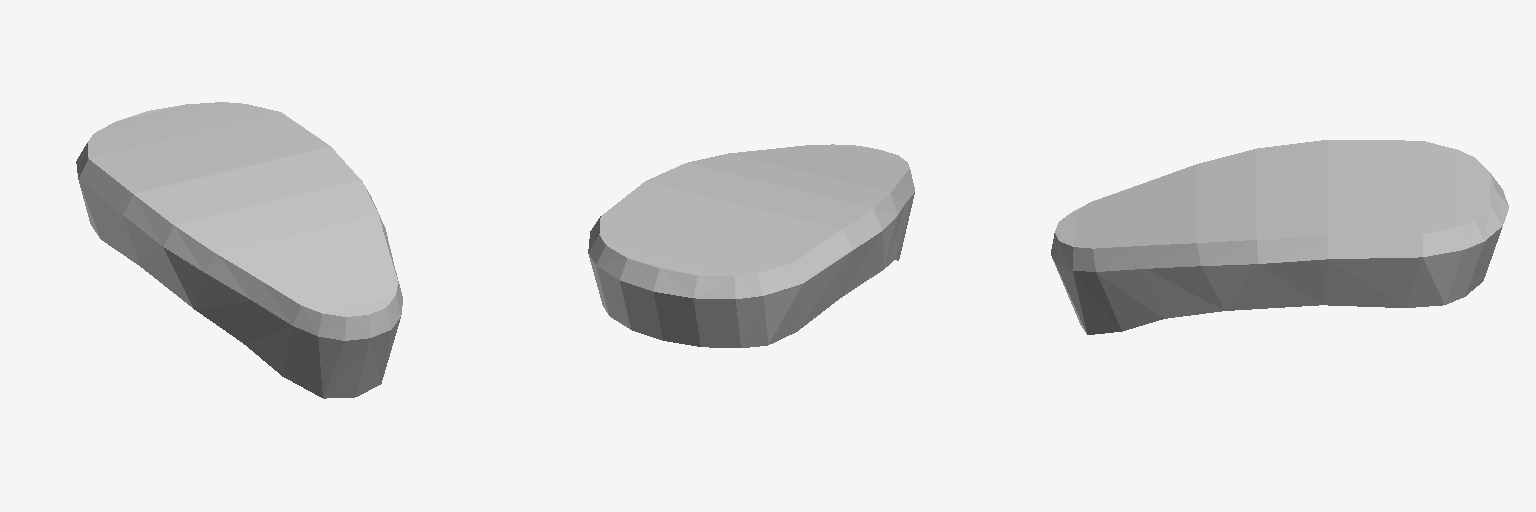
File: SeatLmao.obj
3 renders of one model, left to right at view 1: azimuth 30°, elevation 25°; view 2: azimuth 150°, elevation 25°; view 3: azimuth 270°, elevation 25°, orthographic.
Parts seen in each view (by area): view 1: Seat; view 2: Seat; view 3: Seat.
Part boxes in pixels (left/top/right/bottom): Seat: left=76, top=102, right=402, bottom=398; Seat: left=588, top=144, right=914, bottom=347; Seat: left=1051, top=140, right=1508, bottom=334.
Bounding box in the file's own units: 0.0845 × 0.0505 × 0.1536.